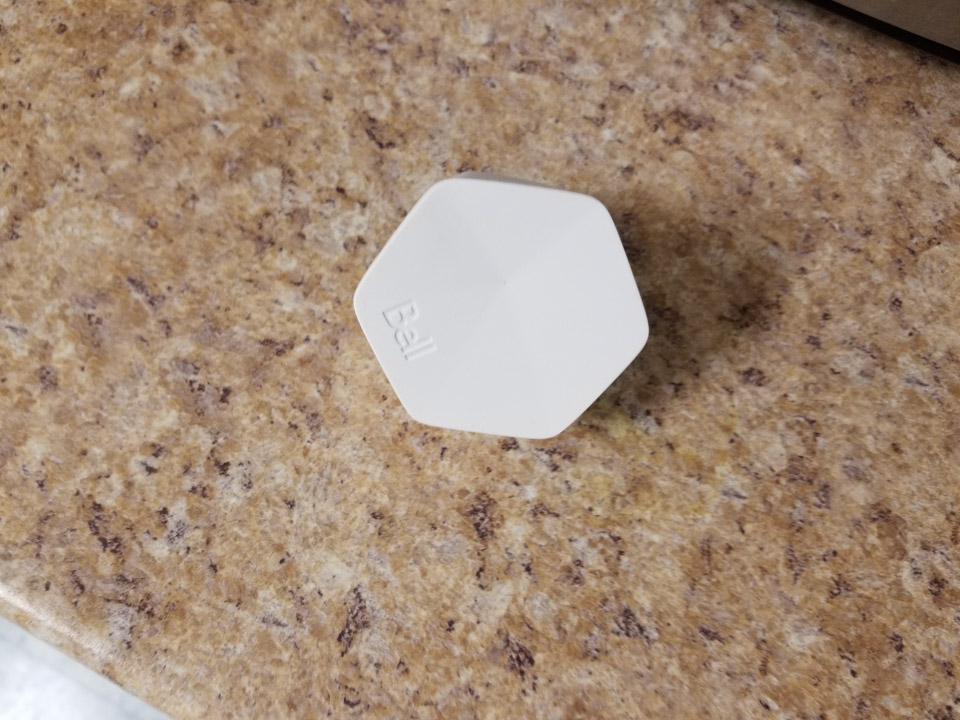pod: (344, 163, 663, 444)
